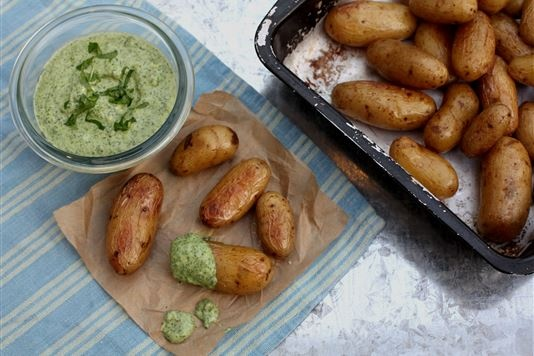background: (176, 0, 445, 136), (23, 17, 184, 182), (30, 19, 163, 191), (106, 78, 246, 164), (60, 30, 199, 98), (28, 18, 149, 87), (52, 58, 137, 153)
